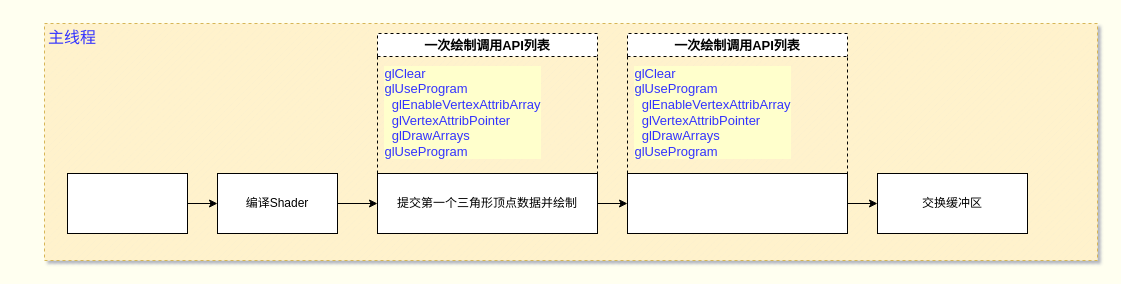
Some shapes in this 1121 by 284 pixel diagram are drawn without their labels. The centre of each missing label's shape, as x and y in pixels:
初始化glfw: the point at 127,203
提交第二个三角形顶点数据并绘制: the point at 737,203
